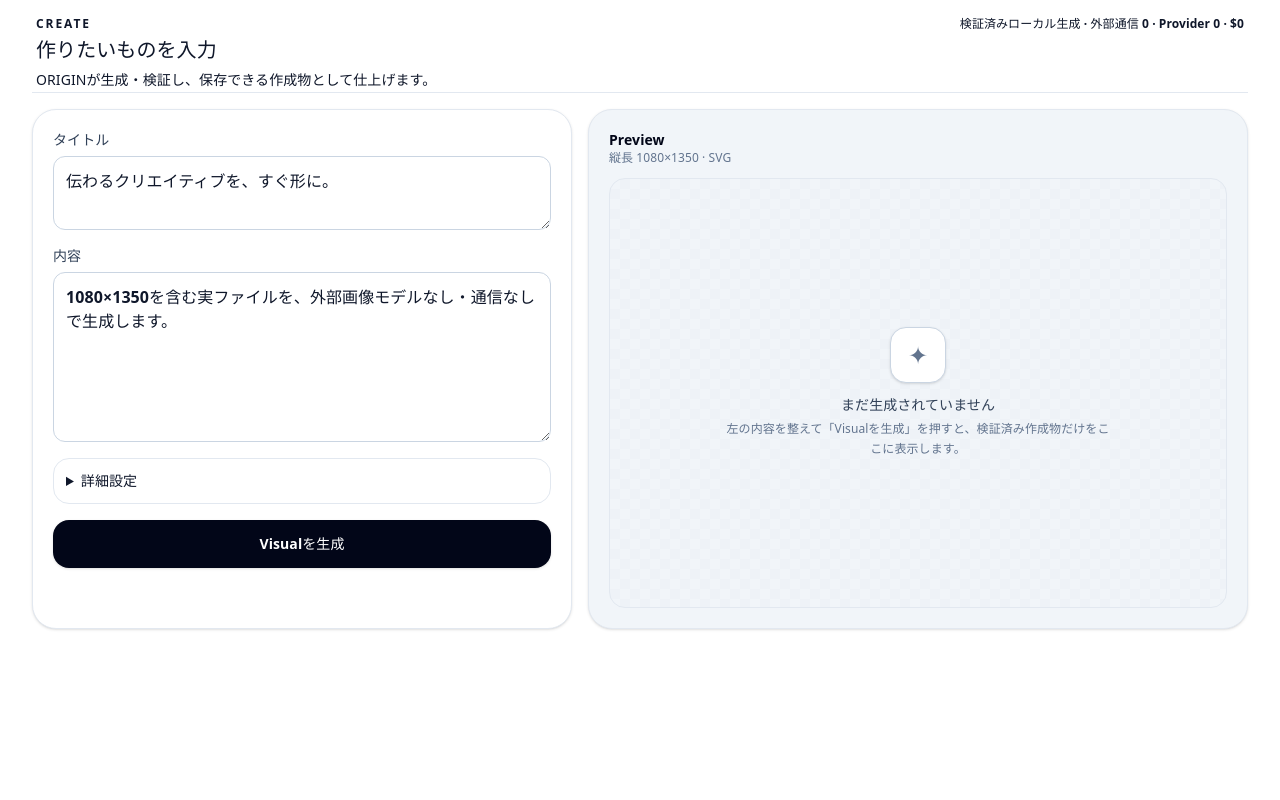
CreativeWorkspaceV15 › rejects a response whose SVG bytes do not match the advertised SHA-256
Expected: the text "検証済みローカル生成 · 外部通信 0 · Provider 0 · $0" is shown, [960,16,1244,32]
Click the button "Visualを生成" at (302, 544), box [53,520,551,568]
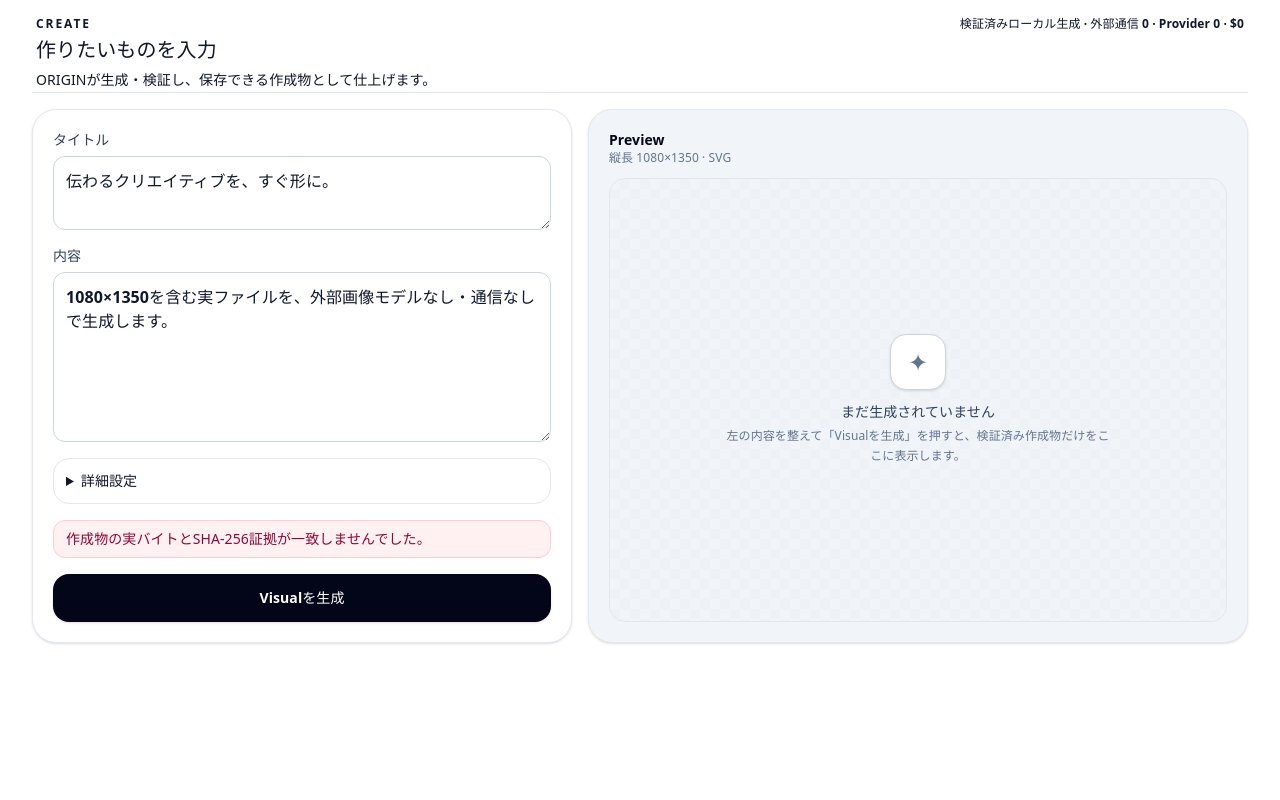
Expected: the text "作成物の実バイトとSHA-256証拠が一致しませんでした。" is shown, [53,520,551,558]
